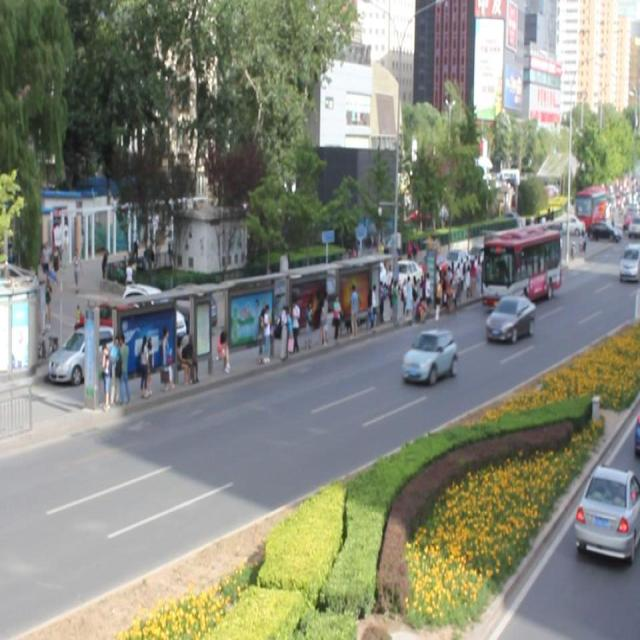car: (402, 328, 457, 385), (485, 294, 534, 342)
van: (483, 224, 561, 303)
